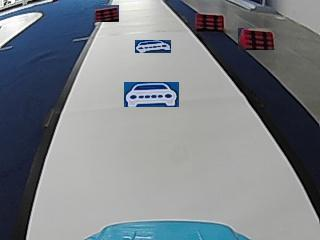bomb: (194, 13, 225, 30)
